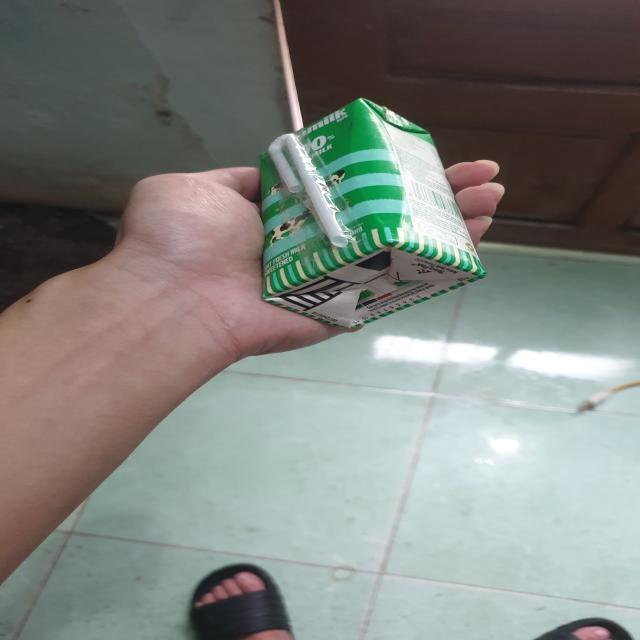Vina: (250, 103, 487, 333)
